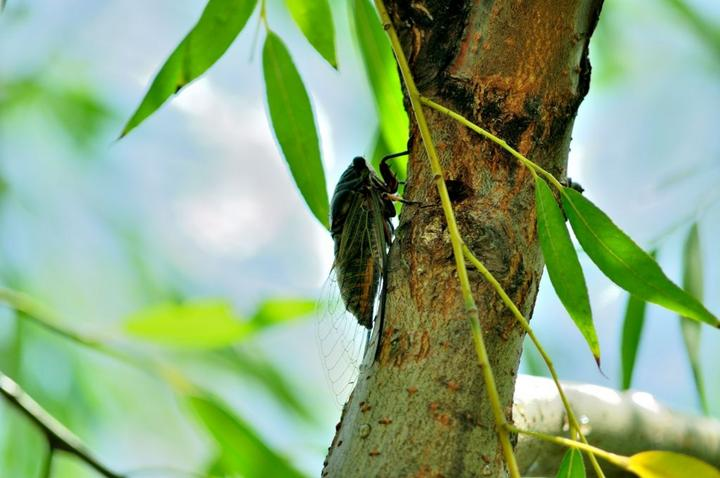chan: (300, 150, 409, 355)
